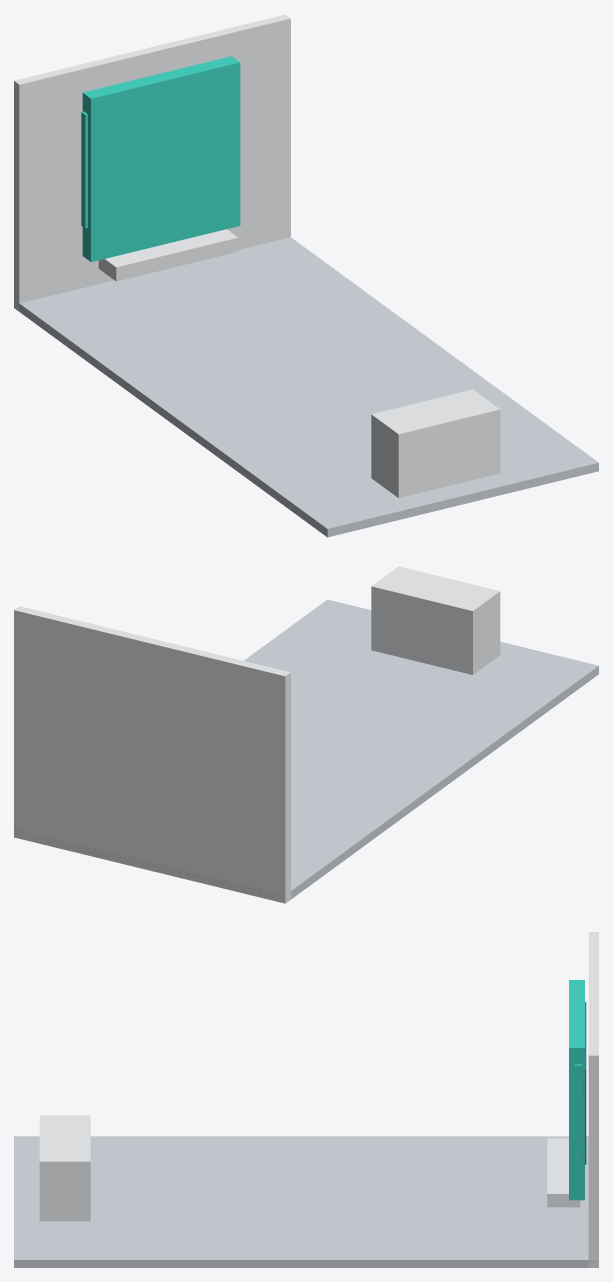
3 renders of one model, top to bottom at view 1: azimuth 30°, elevation 25°; view 2: azimuth 150°, elevation 25°; view 3: azimuth 270°, elevation 25°, orthographic. The views are drawn at different scales.
Visible parts, largest first — view 1: Exhibition Booth Concept; view 2: Exhibition Booth Concept; view 3: Exhibition Booth Concept.
Part boxes in pixels (x1,y1,x2,y2): Exhibition Booth Concept: [14, 14, 598, 537]; Exhibition Booth Concept: [14, 566, 598, 903]; Exhibition Booth Concept: [14, 932, 598, 1267].
Size of the model in its own units: 4 by 3.2 by 8.
